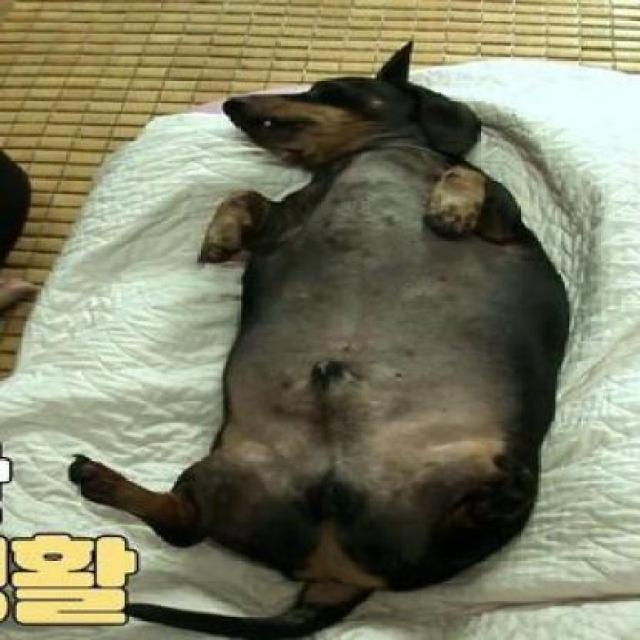Dog: (71, 31, 577, 638)
